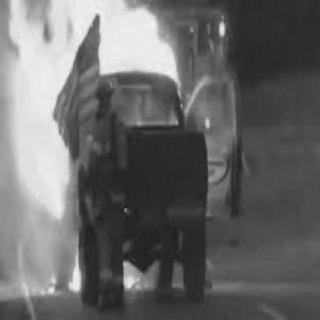Fire: (97, 12, 171, 76)
